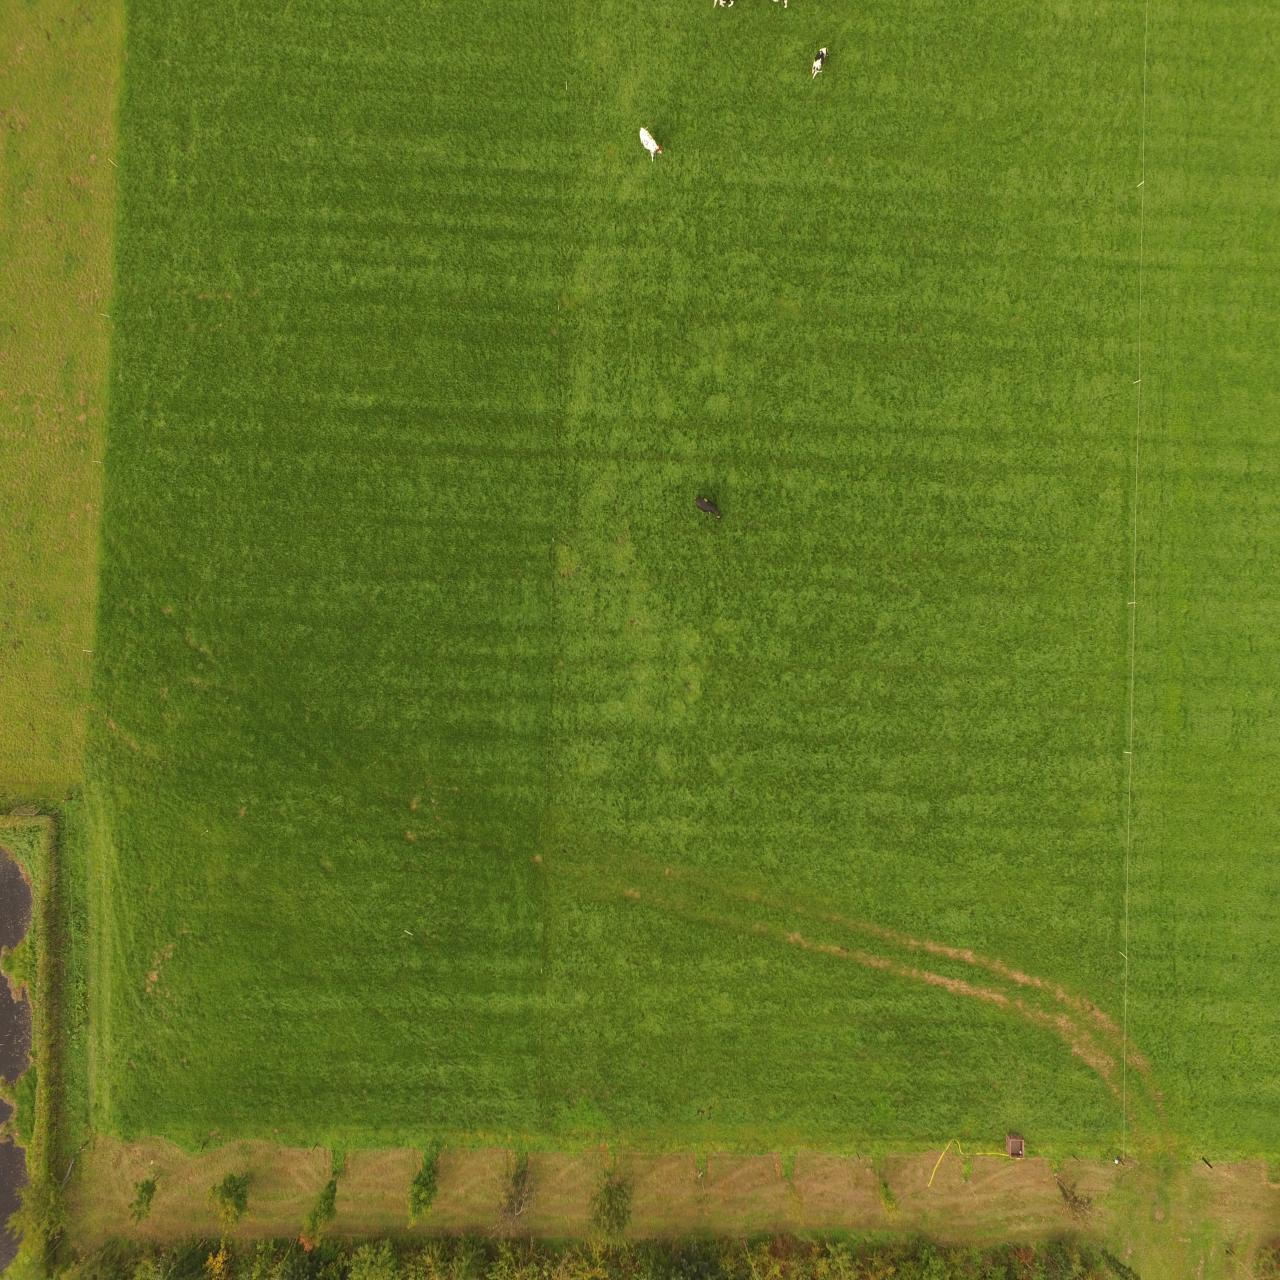cow: (638, 124, 666, 163), (692, 496, 724, 523), (808, 42, 826, 82)
